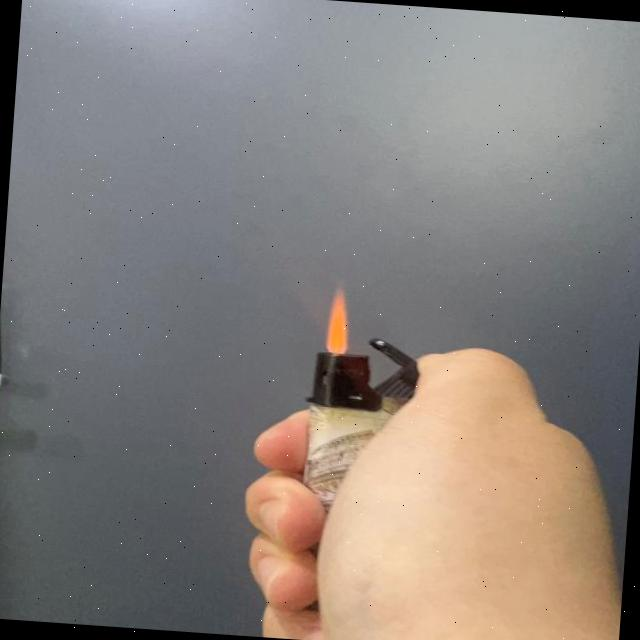fire: (323, 282, 353, 352)
